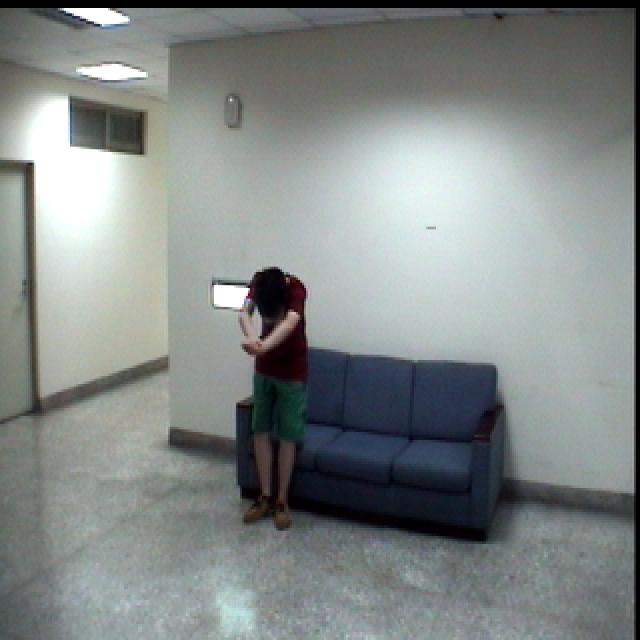bend: (231, 255, 319, 534)
